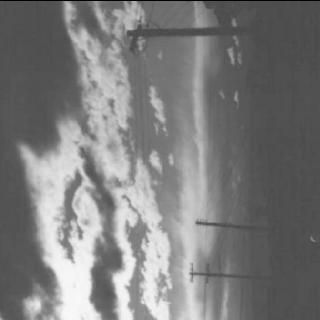Stratocumulus: (0, 0, 234, 320)
